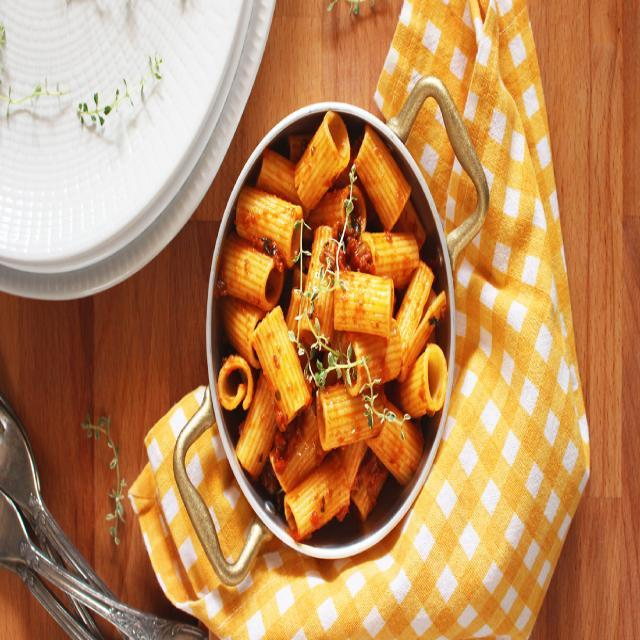Pasta al ragu: (206, 108, 459, 532)
